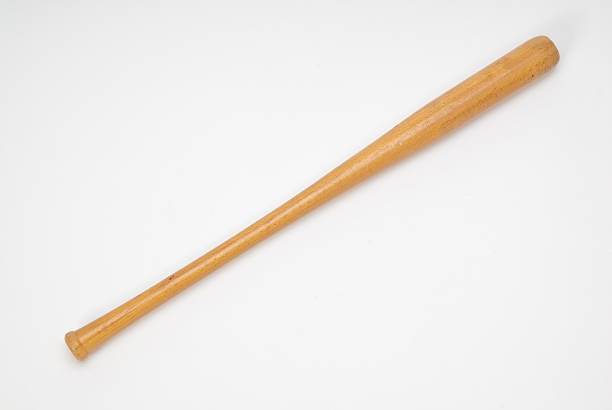bita: (65, 37, 556, 357)
